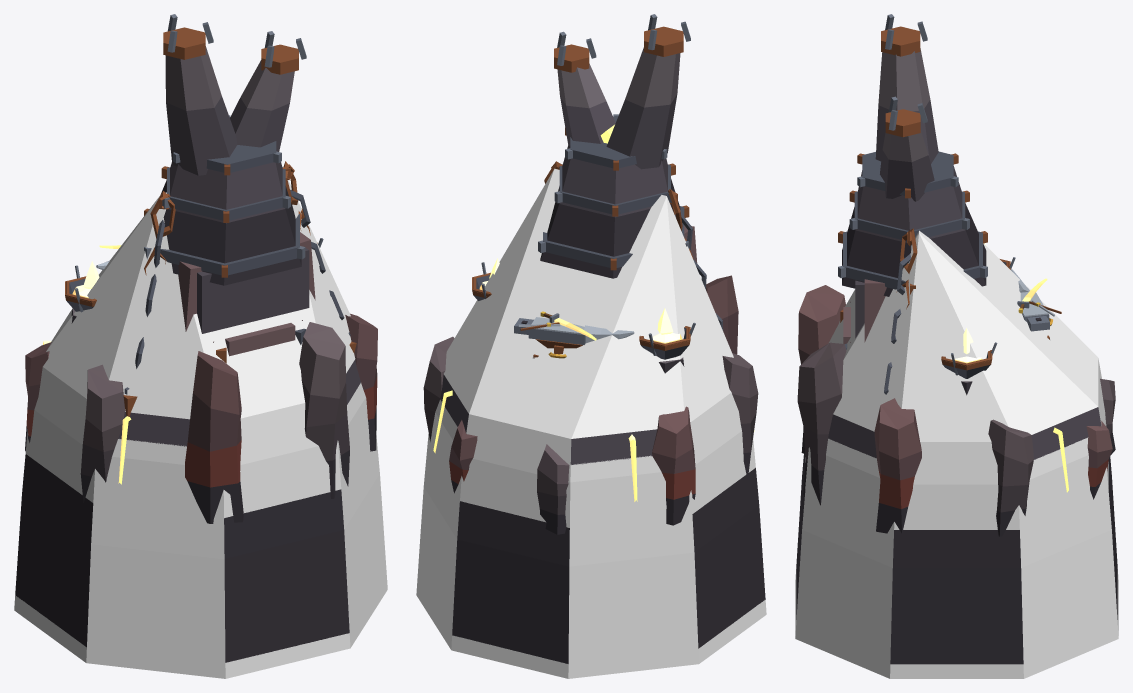
Rendered from volcanic_obsidian_forge_anvil.glb.
The picture shows the model from 3 angles, left to right: view 1: azimuth 30°, elevation 25°; view 2: azimuth 150°, elevation 25°; view 3: azimuth 270°, elevation 25°; orthographic projection. The views are drawn at different scales.
Visible parts, largest first — view 1: VolcanicObsidianForgeAnvil, col_forge_base; view 2: col_forge_base, VolcanicObsidianForgeAnvil; view 3: col_forge_base, VolcanicObsidianForgeAnvil.
Part boxes in pixels (x1,y1,x2,y2): VolcanicObsidianForgeAnvil: (15, 14, 377, 662); col_forge_base: (14, 180, 387, 678); col_forge_base: (416, 168, 766, 678); VolcanicObsidianForgeAnvil: (423, 14, 765, 663); col_forge_base: (795, 230, 1118, 678); VolcanicObsidianForgeAnvil: (796, 14, 1117, 664).
Size of the model in its own units: 5.28 by 10.22 by 5.28.
